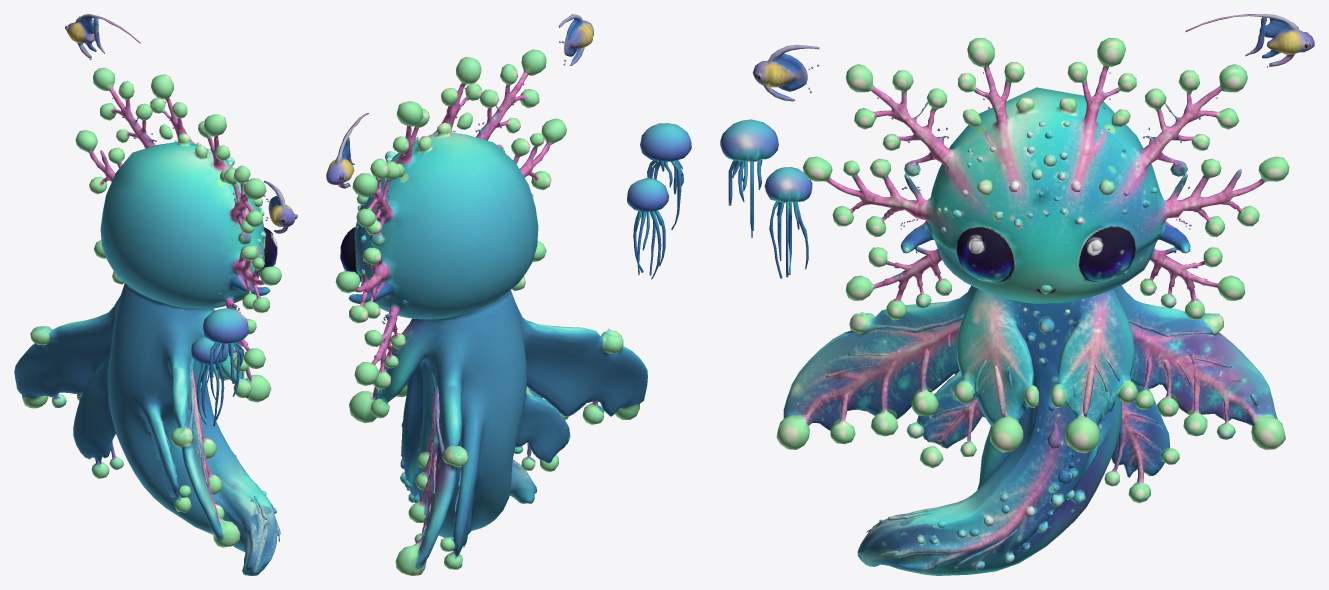
The model's file is cute+jellyfish+3d+model.glb.
3 views of the same model, side by side, from view 1: azimuth 30°, elevation 25°; view 2: azimuth 150°, elevation 25°; view 3: azimuth 270°, elevation 25° (orthographic). The views are drawn at different scales.
Parts seen in each view (by area): view 1: tripo_node_f4989a19-6319-4375-b4eb-188433608e60; view 2: tripo_node_f4989a19-6319-4375-b4eb-188433608e60; view 3: tripo_node_f4989a19-6319-4375-b4eb-188433608e60.
Boxes of the visible parts, x1=… form: tripo_node_f4989a19-6319-4375-b4eb-188433608e60: x1=14, y1=14, x2=297, y2=575; tripo_node_f4989a19-6319-4375-b4eb-188433608e60: x1=326, y1=14, x2=691, y2=575; tripo_node_f4989a19-6319-4375-b4eb-188433608e60: x1=720, y1=14, x2=1314, y2=575.
Size of the model in its own units: 0.3862 by 0.9818 by 0.9568.
Materials: 1 (1 with a texture image).
